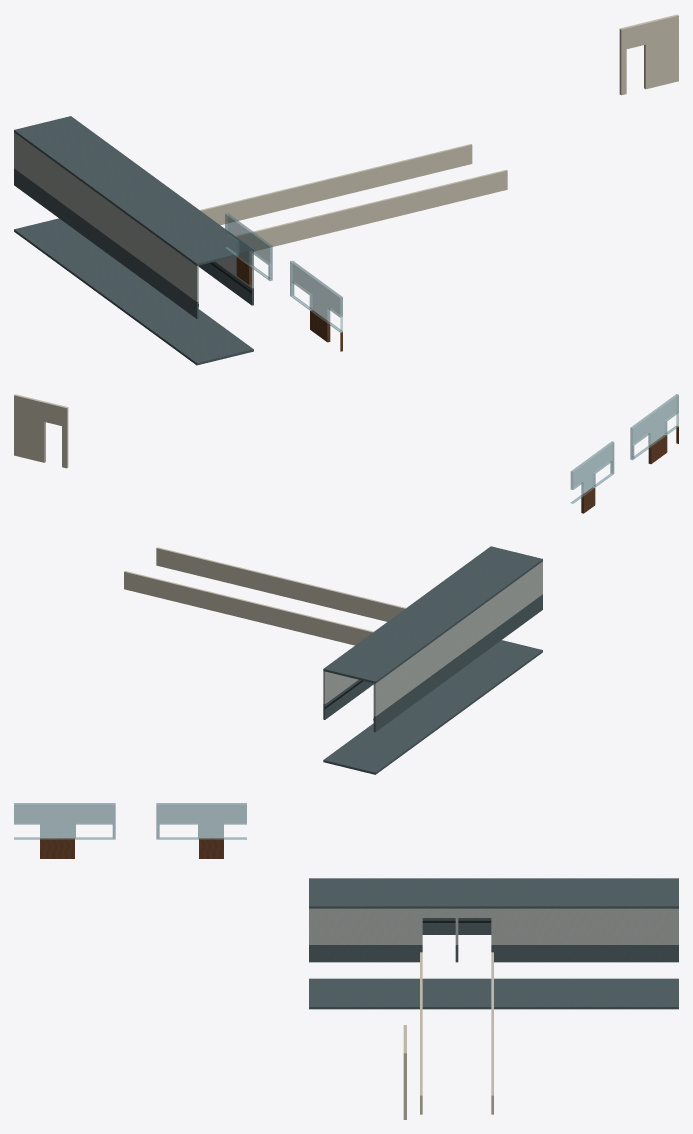
The model's file is D04_BOUNDED_PHYSICAL_CUTS_r008.glb.
3 renders of one model, top to bottom at view 1: azimuth 30°, elevation 25°; view 2: azimuth 150°, elevation 25°; view 3: azimuth 270°, elevation 25°, orthographic. The views are drawn at different scales.
Parts seen in each view (by area): view 1: D04PC_Successor_HOME_BATCH_007_ASTRAEA_staff_bluegrey_paint, D04PC_Successor_HOME_BATCH_174_ASTRAEA_staff_white_paint, D04PC_Successor_D04SA_ServiceLaneScreen_0, D04PC_Successor_D04SA_ServiceLaneScreen_2, D04PC_Successor_D04HC3_east_End_0, D04PC_Successor_D04H928_GardenGlass, D04PC_Successor_D04H952_GardenGlass; view 2: D04PC_Successor_HOME_BATCH_007_ASTRAEA_staff_bluegrey_paint, D04PC_Successor_HOME_BATCH_174_ASTRAEA_staff_white_paint, D04PC_Successor_D04SA_ServiceLaneScreen_2, D04PC_Successor_D04SA_ServiceLaneScreen_0, D04PC_Successor_D04HC3_east_End_0, D04PC_Successor_D04H928_GardenGlass, D04PC_Successor_D04H952_GardenGlass; view 3: D04PC_Successor_HOME_BATCH_007_ASTRAEA_staff_bluegrey_paint, D04PC_Successor_HOME_BATCH_174_ASTRAEA_staff_white_paint, D04PC_Successor_D04H928_GardenGlass, D04PC_Successor_D04H952_GardenGlass, D04PC_Successor_D04H928_GardenDado, D04PC_Successor_D04H952_GardenDado, D04PC_Successor_D04SA_ServiceLaneScreen_0, D04PC_Successor_D04SA_ServiceLaneScreen_2.
Boxes of the visible parts, <box> form: D04PC_Successor_HOME_BATCH_007_ASTRAEA_staff_bluegrey_paint: <box>14,116,253,365</box>; D04PC_Successor_HOME_BATCH_174_ASTRAEA_staff_white_paint: <box>14,132,253,301</box>; D04PC_Successor_D04SA_ServiceLaneScreen_0: <box>200,144,472,225</box>; D04PC_Successor_D04SA_ServiceLaneScreen_2: <box>235,169,507,251</box>; D04PC_Successor_D04HC3_east_End_0: <box>619,14,678,95</box>; D04PC_Successor_D04H928_GardenGlass: <box>290,260,342,332</box>; D04PC_Successor_D04H952_GardenGlass: <box>225,213,272,280</box>; D04PC_Successor_HOME_BATCH_007_ASTRAEA_staff_bluegrey_paint: <box>323,546,542,774</box>; D04PC_Successor_HOME_BATCH_174_ASTRAEA_staff_white_paint: <box>323,561,542,716</box>; D04PC_Successor_D04SA_ServiceLaneScreen_2: <box>156,547,405,621</box>; D04PC_Successor_D04SA_ServiceLaneScreen_0: <box>124,571,373,645</box>; D04PC_Successor_D04HC3_east_End_0: <box>14,394,68,468</box>; D04PC_Successor_D04H928_GardenGlass: <box>630,394,678,459</box>; D04PC_Successor_D04H952_GardenGlass: <box>570,441,614,503</box>; D04PC_Successor_HOME_BATCH_007_ASTRAEA_staff_bluegrey_paint: <box>309,878,678,1009</box>; D04PC_Successor_HOME_BATCH_174_ASTRAEA_staff_white_paint: <box>309,908,678,944</box>; D04PC_Successor_D04H928_GardenGlass: <box>14,803,115,839</box>; D04PC_Successor_D04H952_GardenGlass: <box>156,803,246,839</box>; D04PC_Successor_D04H928_GardenDado: <box>40,838,74,858</box>; D04PC_Successor_D04H952_GardenDado: <box>199,838,223,858</box>; D04PC_Successor_D04SA_ServiceLaneScreen_0: <box>491,952,493,1114</box>; D04PC_Successor_D04SA_ServiceLaneScreen_2: <box>420,952,422,1114</box>.
Bounding box in the file's own units: 33.55 × 11.26 × 35.95.
Materials: 9 (7 with a texture image).
